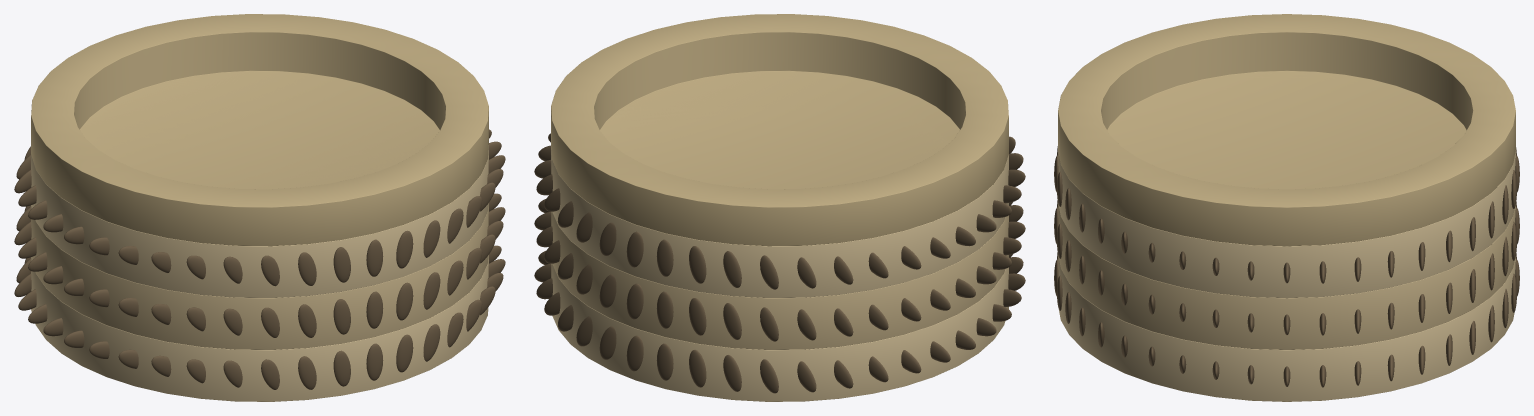
The model's file is marco_coliseu.glb.
The picture shows the model from 3 angles, left to right: view 1: azimuth 30°, elevation 25°; view 2: azimuth 150°, elevation 25°; view 3: azimuth 270°, elevation 25°; orthographic projection.
Visible parts, largest first — view 1: marco_coliseu; view 2: marco_coliseu; view 3: marco_coliseu.
Boxes of the visible parts, bbox=[...] form: marco_coliseu: bbox=[14, 14, 505, 401]; marco_coliseu: bbox=[534, 14, 1025, 401]; marco_coliseu: bbox=[1054, 14, 1519, 401].
Bounding box in the file's own units: 34.91 × 15 × 32.54.
